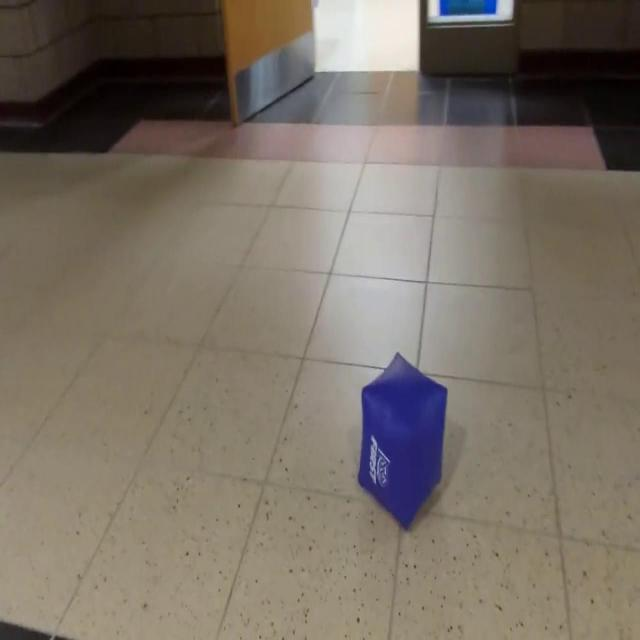frc_cube: (356, 349, 444, 527)
